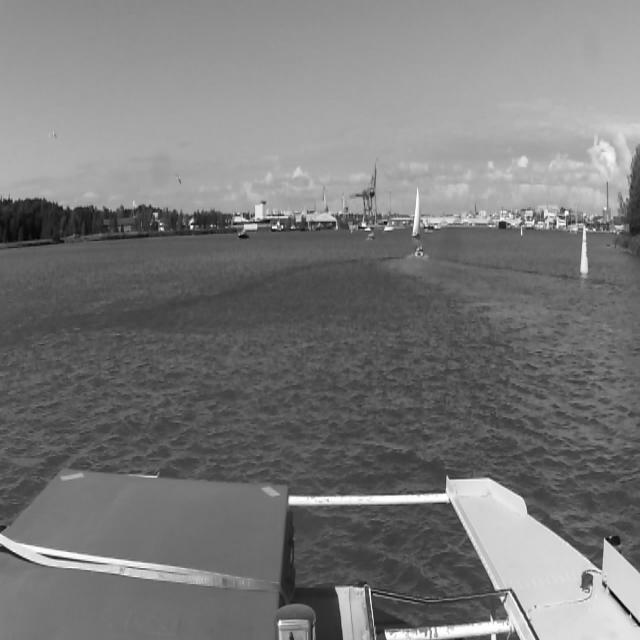buoy: (577, 223, 591, 280), (348, 222, 354, 236), (519, 223, 523, 240)
ship: (410, 186, 422, 241), (235, 224, 251, 241), (498, 206, 507, 232), (413, 242, 425, 258), (366, 228, 375, 242)
